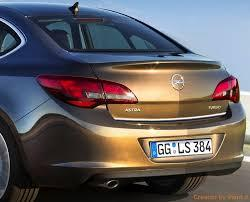opel: (166, 71, 188, 92)
